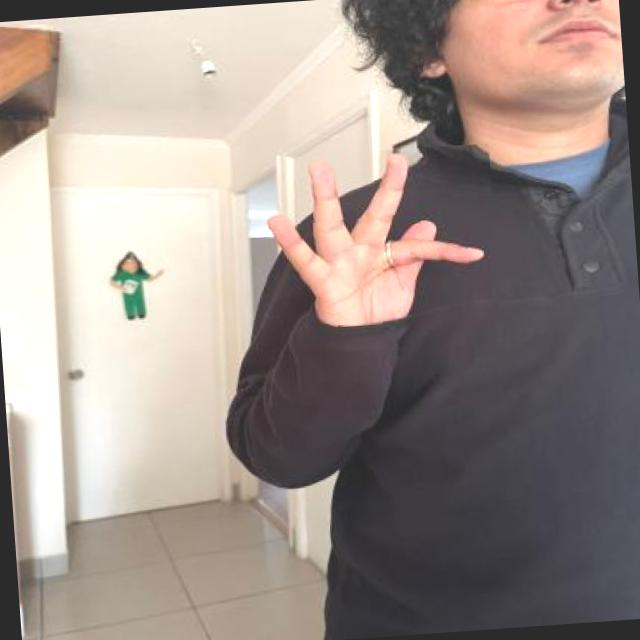F: (258, 142, 502, 356)
